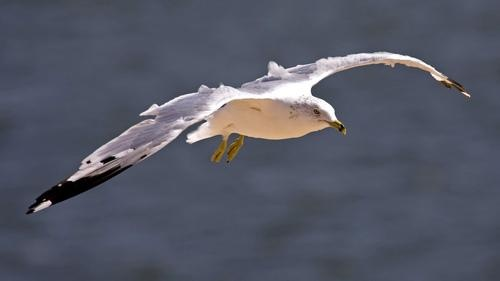bird: (24, 49, 479, 218)
